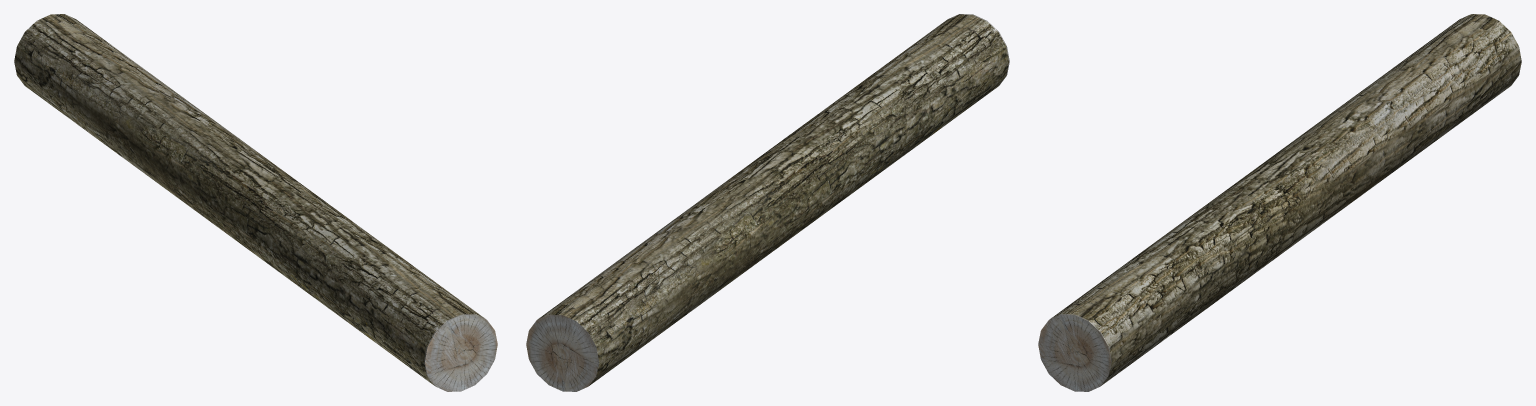
Rendered from entrepreneur_log.glb.
3 views of the same model, side by side, from view 1: azimuth 30°, elevation 25°; view 2: azimuth 150°, elevation 25°; view 3: azimuth 330°, elevation 25° (orthographic).
Parts seen in each view (by area): view 1: Cylinder; view 2: Cylinder; view 3: Cylinder.
Part boxes in pixels (x1,y1,x2,y2): Cylinder: (14,14,497,391); Cylinder: (526,14,1009,391); Cylinder: (1038,14,1521,391).
Bounding box in the file's own units: 41.04 × 41.04 × 400.
Materials: 1 (1 with a texture image).
